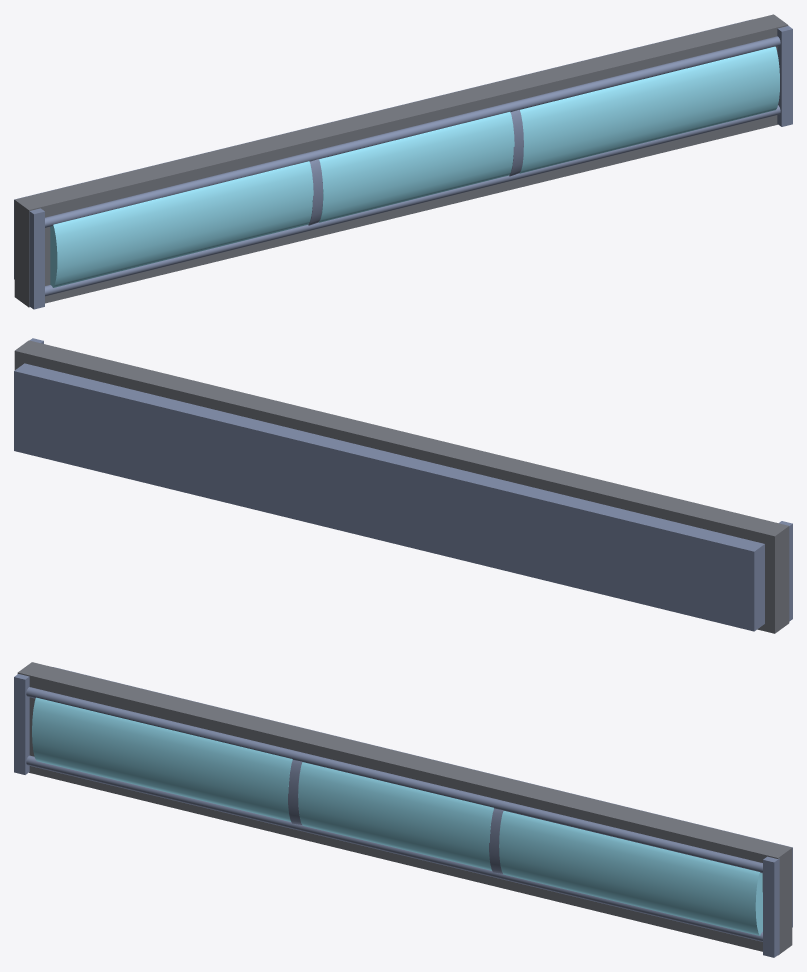
Rendered from Si-Fi Lights.fbx.
The picture shows the model from 3 angles, top to bottom: view 1: azimuth 30°, elevation 25°; view 2: azimuth 150°, elevation 25°; view 3: azimuth 330°, elevation 25°; orthographic projection.
Visible parts, largest first — view 1: pasted__pasted__pCube3; view 2: pasted__pasted__pCube3; view 3: pasted__pasted__pCube3.
Part boxes in pixels (x1,y1,x2,y2): pasted__pasted__pCube3: (14,14,792,309); pasted__pasted__pCube3: (14,338,792,633); pasted__pasted__pCube3: (14,662,792,957).
Size of the model in its own units: 9.96 by 1.22 by 0.7282.
